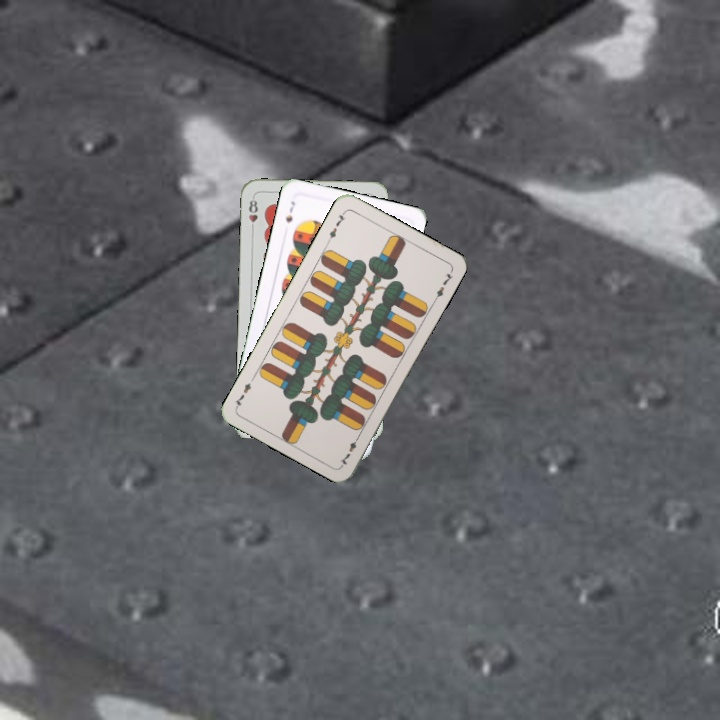E7: (336, 431, 363, 468), (324, 207, 349, 245)
H8: (245, 193, 260, 234)
S7: (281, 197, 298, 225)
